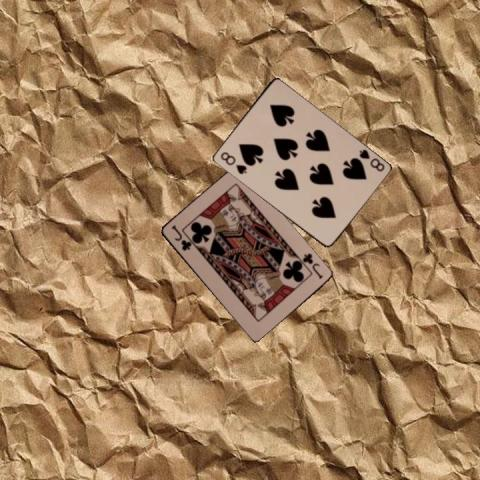8s: (217, 149, 248, 176), (356, 146, 386, 173)
Jc: (299, 250, 324, 280), (168, 223, 192, 252)
